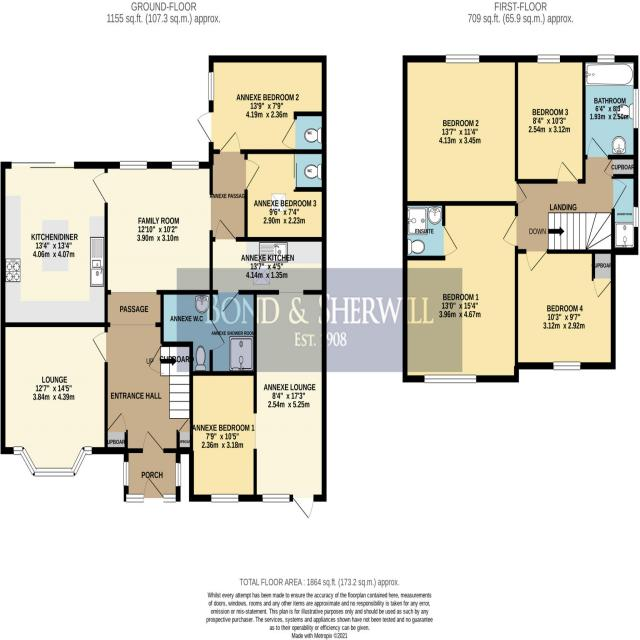DOOR: (525, 248, 551, 275), (441, 223, 460, 259), (500, 214, 519, 249), (611, 176, 629, 211), (196, 110, 215, 143), (291, 493, 314, 520), (556, 158, 579, 185), (218, 130, 242, 155), (216, 288, 239, 314), (592, 277, 616, 301), (214, 218, 237, 243), (143, 477, 165, 503), (587, 135, 609, 161), (209, 319, 226, 352), (244, 158, 261, 191), (281, 118, 298, 151), (92, 331, 109, 363), (147, 343, 164, 375), (142, 430, 164, 454), (92, 172, 108, 204), (107, 411, 127, 432), (515, 181, 529, 206)
ROOM: (209, 214, 328, 523), (402, 200, 520, 384), (402, 54, 529, 206), (0, 160, 108, 329), (89, 159, 215, 297), (0, 321, 110, 479), (196, 54, 327, 155), (514, 249, 616, 371), (514, 55, 586, 185), (189, 370, 258, 503), (244, 149, 327, 242)
SLIDING DOOR: (10, 159, 75, 170)
WINDOW: (423, 372, 478, 385), (20, 447, 37, 477), (70, 447, 87, 476), (33, 466, 76, 477), (445, 53, 481, 65), (632, 86, 640, 131), (261, 493, 291, 504), (552, 361, 582, 372), (171, 160, 200, 171), (210, 493, 239, 503), (120, 160, 148, 170), (536, 54, 561, 64), (207, 71, 215, 102), (596, 54, 616, 65), (125, 493, 144, 503), (123, 461, 130, 487), (175, 462, 182, 487), (632, 206, 639, 228), (163, 493, 176, 503), (13, 446, 24, 456), (82, 446, 92, 456)
